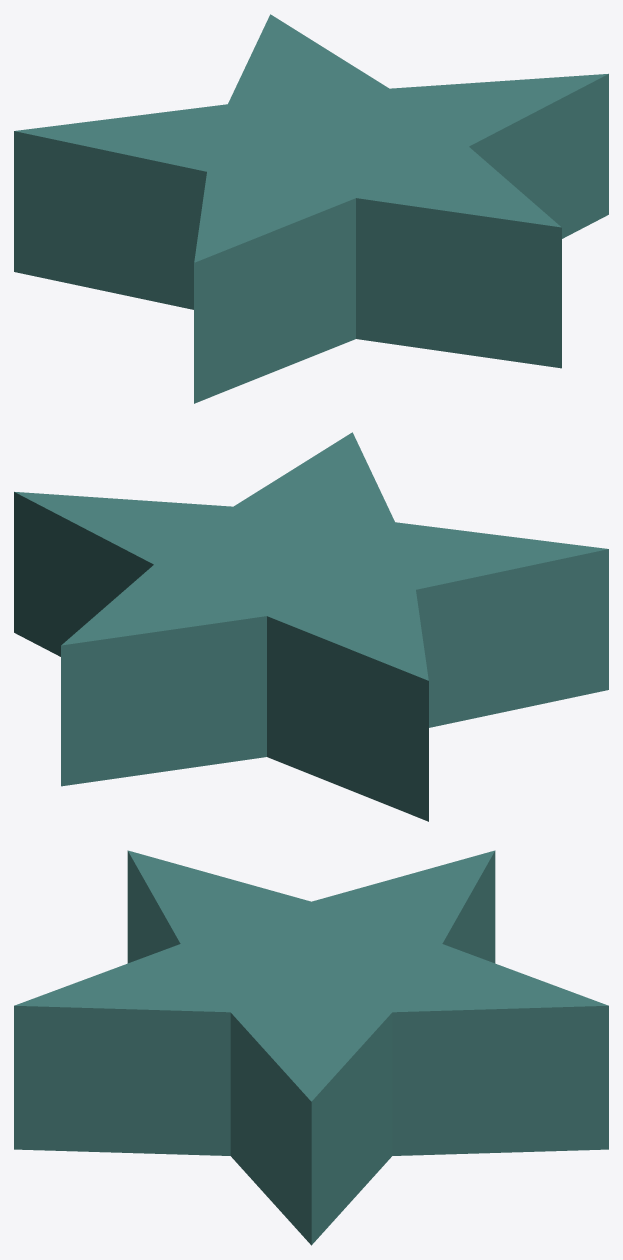
Rendered from wp-coussin-etoile.glb.
The picture shows the model from 3 angles, top to bottom: view 1: azimuth 30°, elevation 25°; view 2: azimuth 150°, elevation 25°; view 3: azimuth 270°, elevation 25°; orthographic projection. The views are drawn at different scales.
Parts seen in each view (by area): view 1: wp-coussin-etoile; view 2: wp-coussin-etoile; view 3: wp-coussin-etoile.
Boxes of the visible parts, <box> form: wp-coussin-etoile: <box>14,14,608,403</box>; wp-coussin-etoile: <box>14,432,608,821</box>; wp-coussin-etoile: <box>14,850,608,1245</box>.
Bounding box in the file's own units: 0.45 × 0.12 × 0.45.
